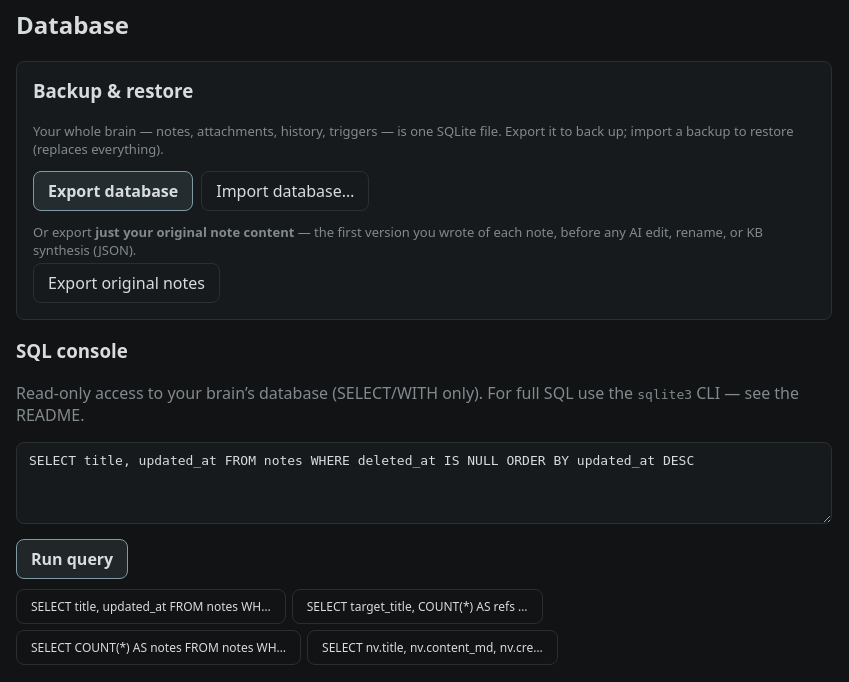
Test: SqlConsole — backup & restore › Export original notes fetches the JSON export and reports success
The image size is (849, 682).
What coordinates should you click on to do the following:
click the button "Export original notes"
I would click on:
 (126, 282)
Its box is left=33, top=262, right=220, bottom=302.
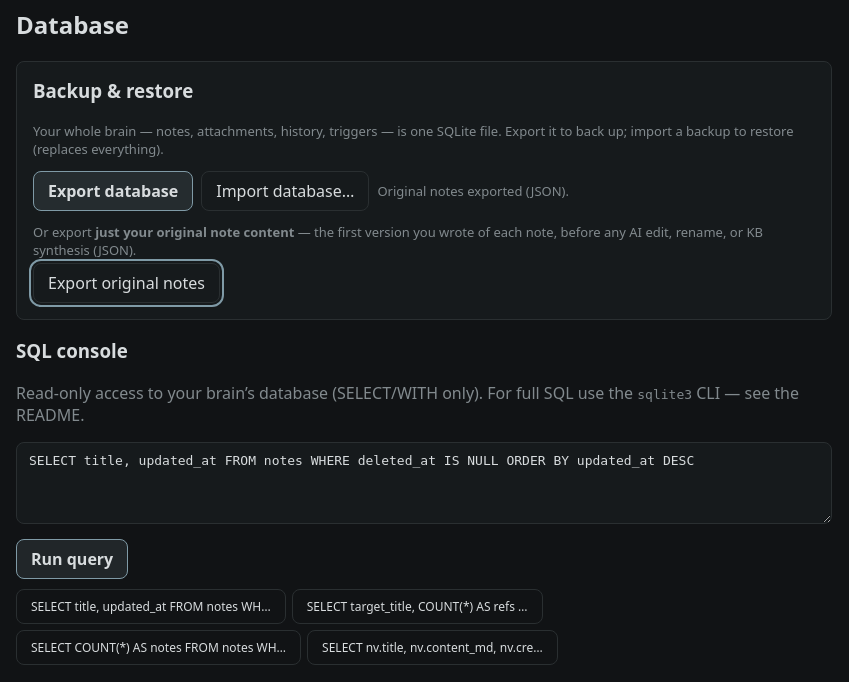
Expected: the text "Original notes exported (JSON)." is shown, left=377, top=182, right=569, bottom=200
